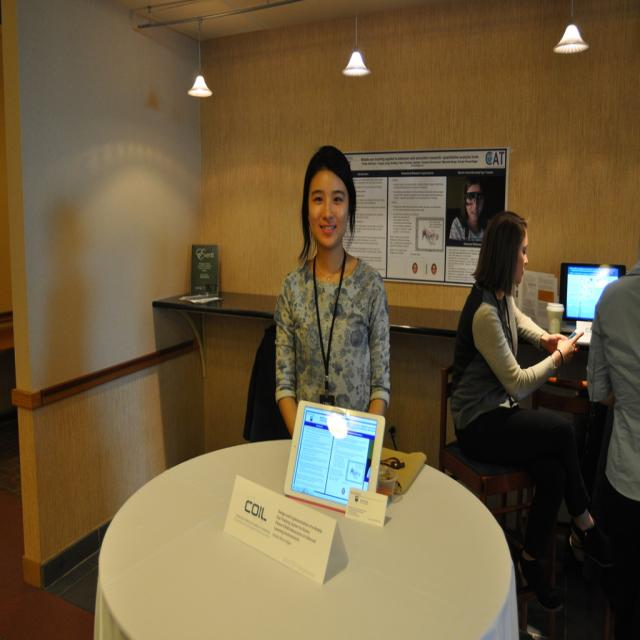chair: (440, 359, 538, 582), (242, 323, 290, 442)
desk: (97, 402, 505, 638)
laptop: (284, 401, 387, 513)
person: (449, 208, 613, 602), (273, 145, 390, 444), (586, 256, 640, 631), (448, 178, 489, 242)
tv: (558, 261, 626, 333)
